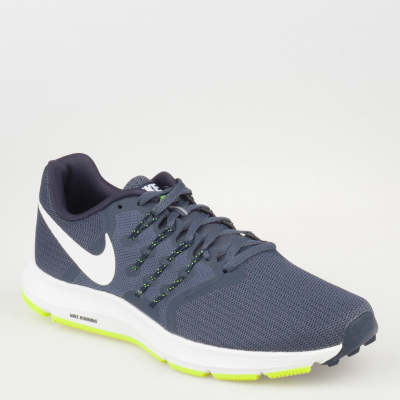nike: (51, 218, 119, 288)
